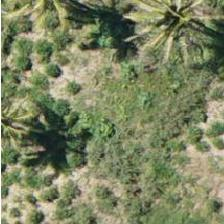coconut_tree: (0, 79, 66, 169), (140, 0, 223, 56)
